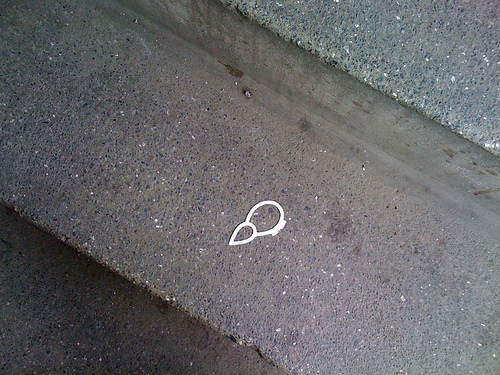litter: (226, 201, 288, 248)
